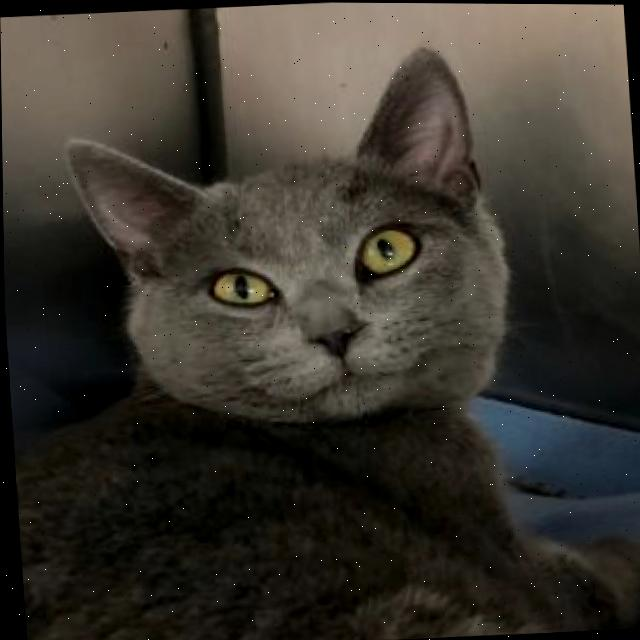Russian Blue: (0, 26, 640, 640)
